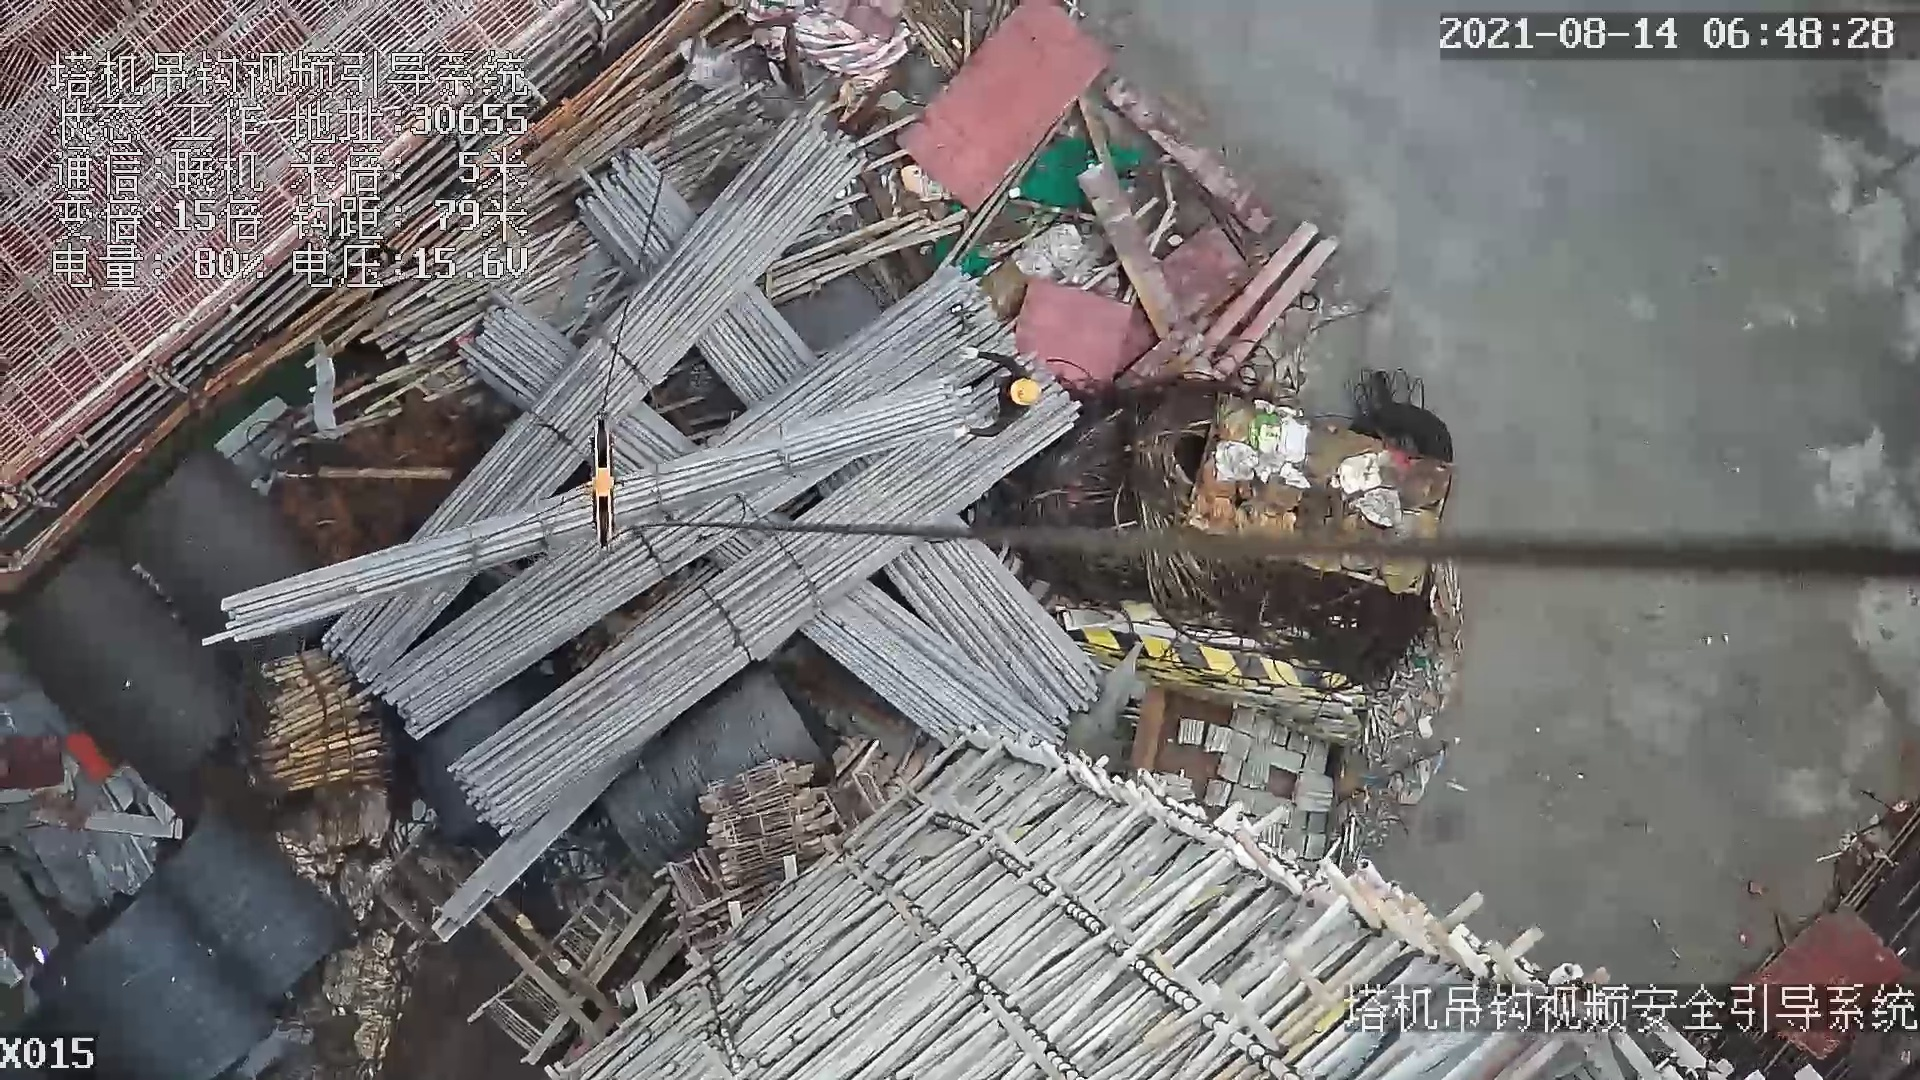board: (896, 1, 1119, 212)
helmet: (1014, 374, 1045, 402)
hook: (582, 413, 624, 550)
person: (956, 336, 1044, 447)
scaffold: (262, 650, 377, 789)
